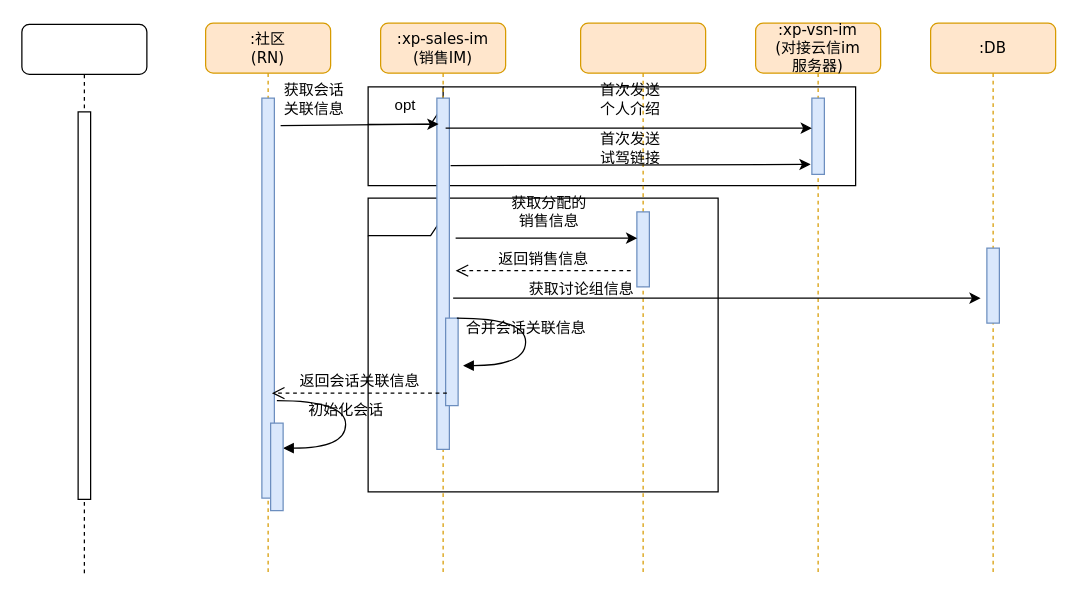
Some shapes in this 1078 by 596 pixel diagram are drawn without their labels. Here are the shapes that lost their labels. From the top down, the box of each, then its label:
(21, 23, 147, 574): :云信(JSSDK)
(579, 22, 706, 573): :销售系统
(367, 197, 718, 492): Par
